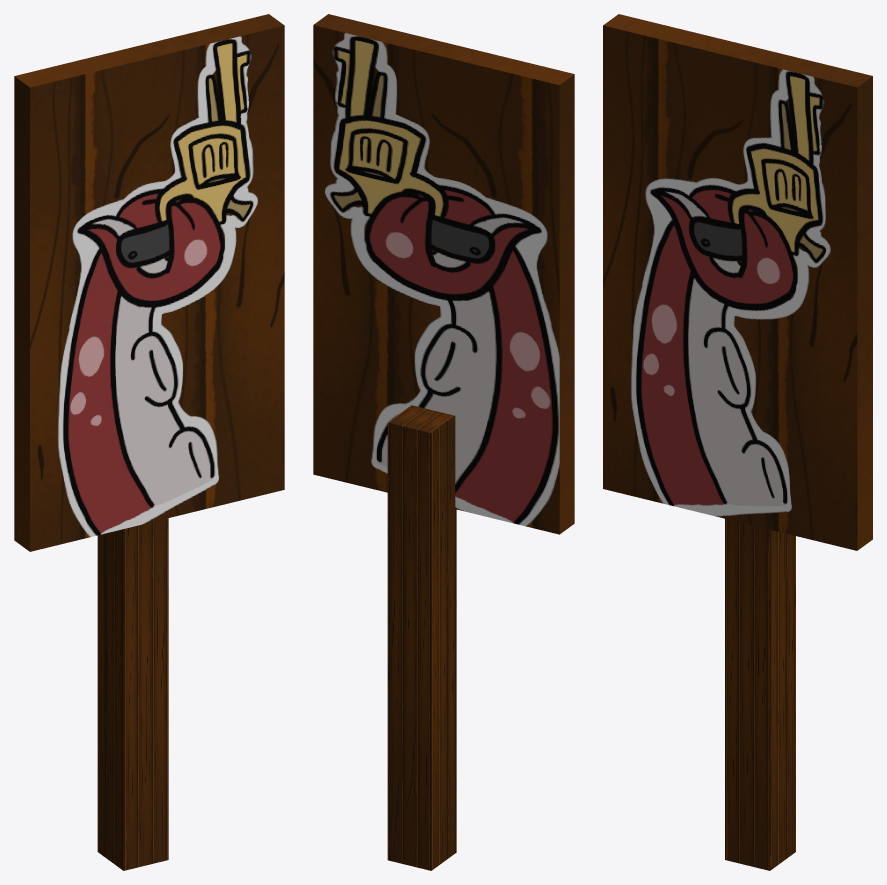
The model's file is Tentacle_Left_Gun.fbx.
3 views of the same model, side by side, from view 1: azimuth 30°, elevation 25°; view 2: azimuth 150°, elevation 25°; view 3: azimuth 330°, elevation 25° (orthographic). The views are drawn at different scales.
Visible parts, largest first — view 1: Octopus_Balk16; view 2: Octopus_Balk16; view 3: Octopus_Balk16.
Part boxes in pixels (x1,y1,x2,y2): Octopus_Balk16: [14, 14, 284, 870]; Octopus_Balk16: [313, 14, 574, 870]; Octopus_Balk16: [603, 14, 872, 870].
Bounding box in the file's own units: 15.82 × 48.69 × 4.34.
2 materials, 2 textured.
